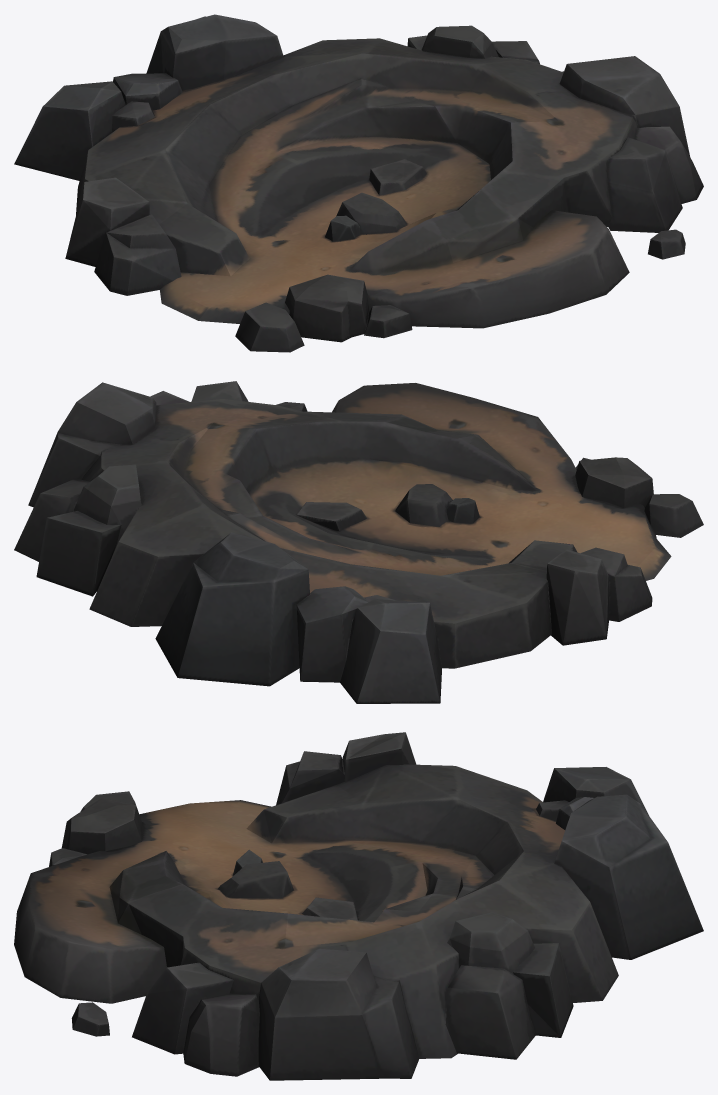
The model's file is WMCoal1.FBX.
The picture shows the model from 3 angles, top to bottom: view 1: azimuth 30°, elevation 25°; view 2: azimuth 150°, elevation 25°; view 3: azimuth 270°, elevation 25°; orthographic projection. The views are drawn at different scales.
Visible parts, largest first — view 1: meikuangchuang; view 2: meikuangchuang; view 3: meikuangchuang.
Boxes of the visible parts, x1=… form: meikuangchuang: x1=14, y1=14, x2=703, y2=352; meikuangchuang: x1=14, y1=381, x2=703, y2=703; meikuangchuang: x1=14, y1=732, x2=703, y2=1080.
Size of the model in its own units: 1.36 by 0.2321 by 1.35.
1 material, 1 textured.
